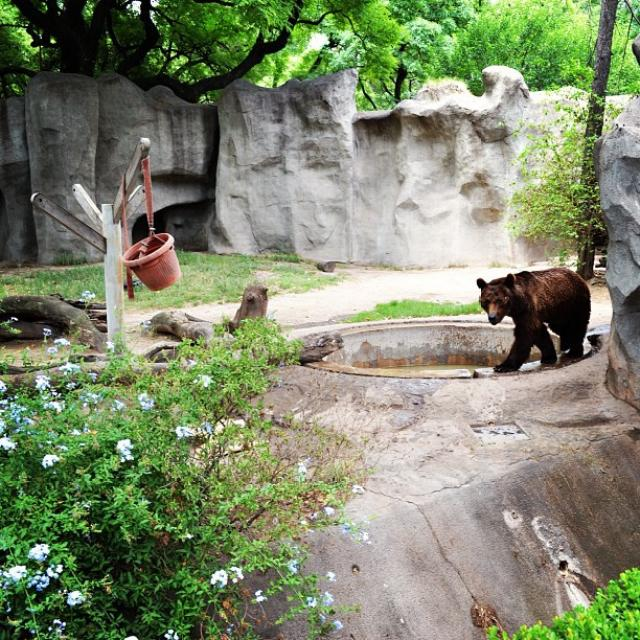Bear: (469, 256, 593, 363)
